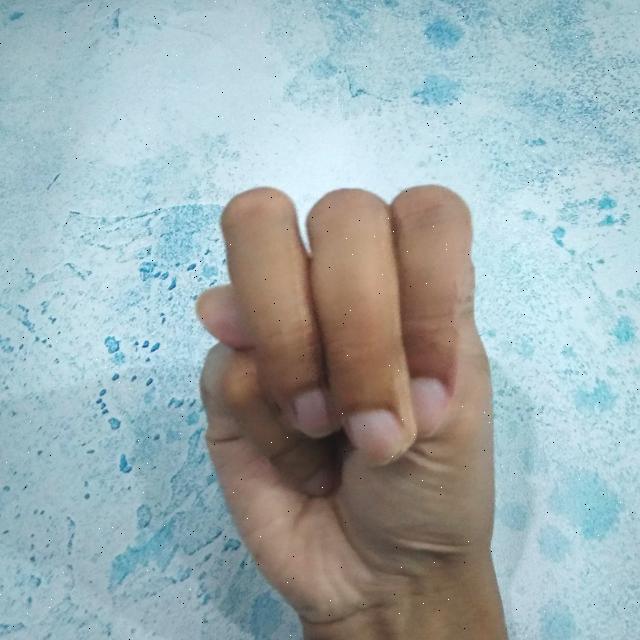M: (189, 171, 508, 640)
